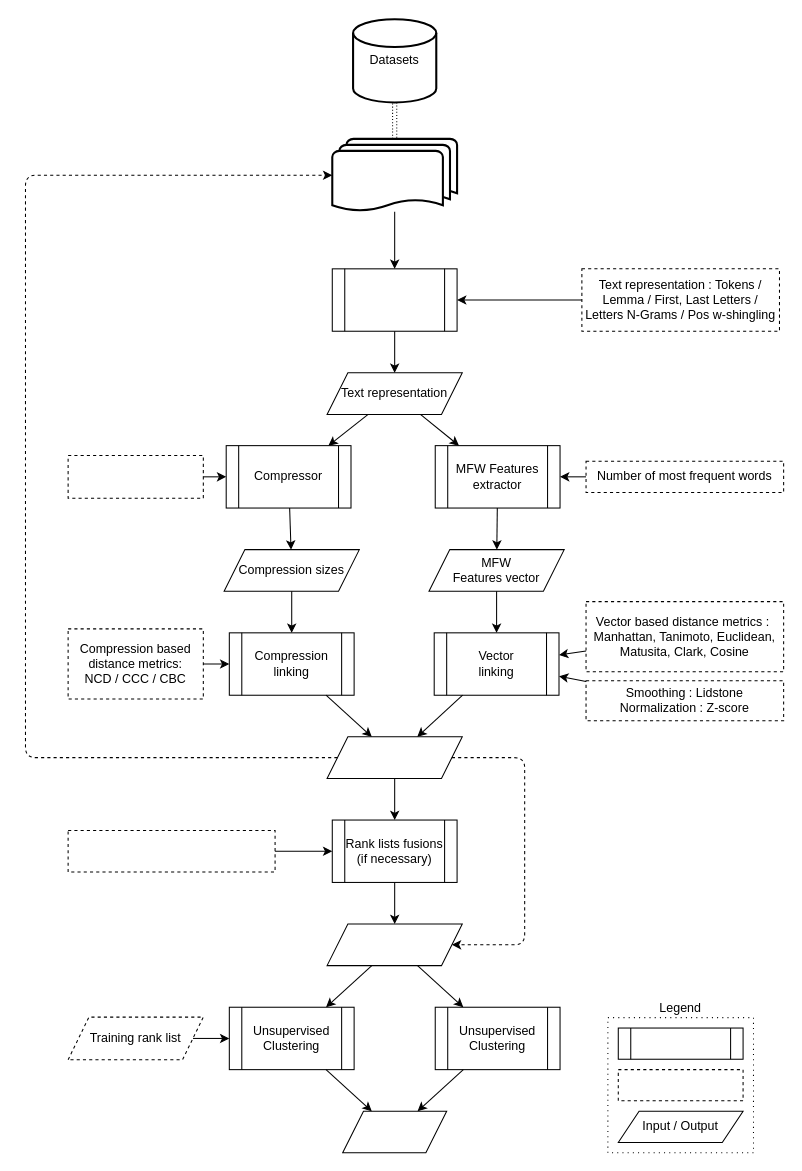
Image size: 802x1171. Some labels were removed from this diagram. Each missing label, with the centre of its shape:
Clusters: the point at 394,1131
Documents: the point at 394,174
Final rank list: the point at 394,944
Fusion method : Z-score / S-curve: the point at 171,850
Lossless compression algorithm: the point at 135,476
Parameters: the point at 680,1085
Process: the point at 680,1043
Rank list(s): the point at 394,757
Text representation algorithm: the point at 394,299
